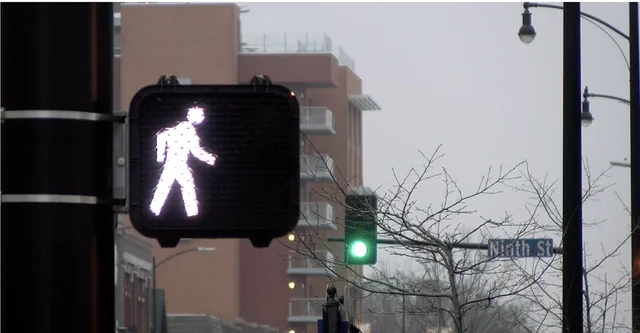ped_walk: (143, 104, 216, 219)
